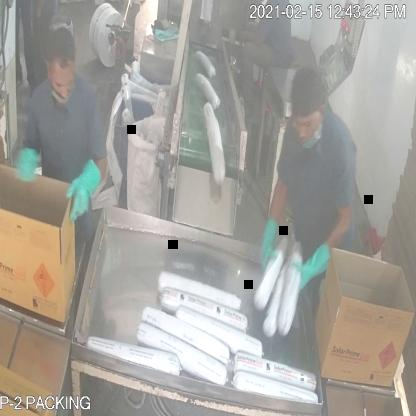glove: (63, 148, 107, 232), (255, 211, 283, 275), (292, 248, 331, 292)
no_glove: (231, 21, 266, 57), (32, 0, 49, 29)
